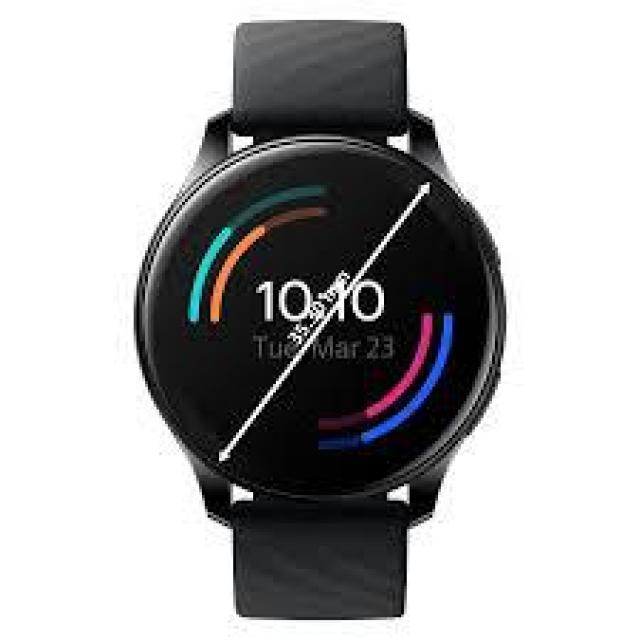watch: (157, 15, 519, 640)
